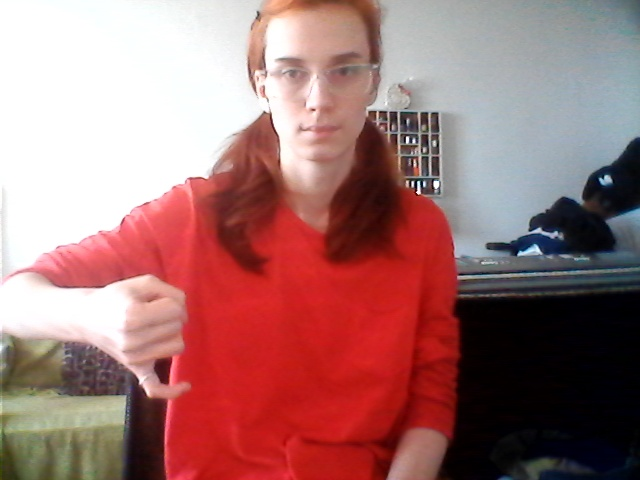j: (95, 265, 220, 409)
